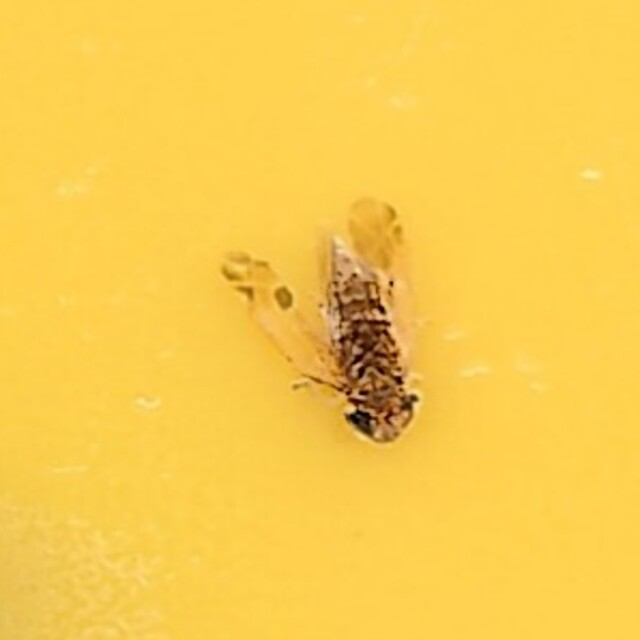Hemiptera: (215, 193, 425, 447)
